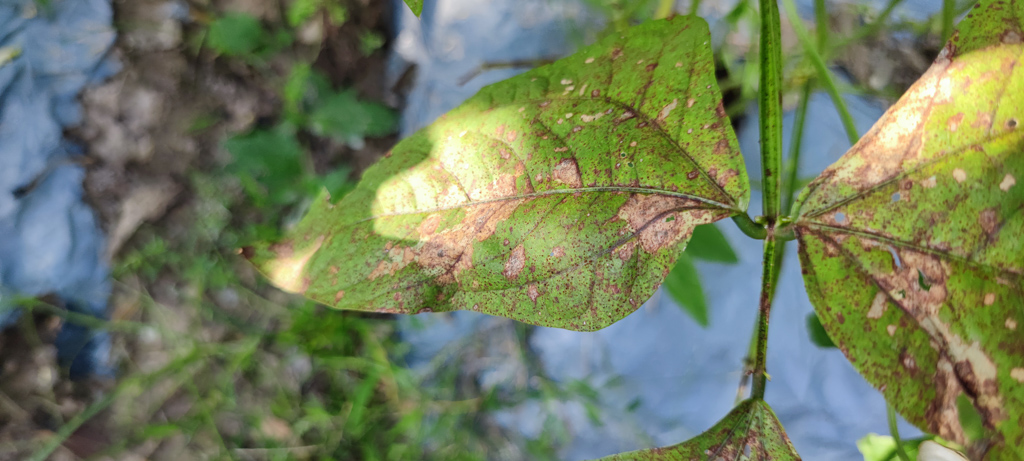Rust: (238, 15, 742, 332), (802, 8, 1020, 458), (599, 397, 813, 454)
